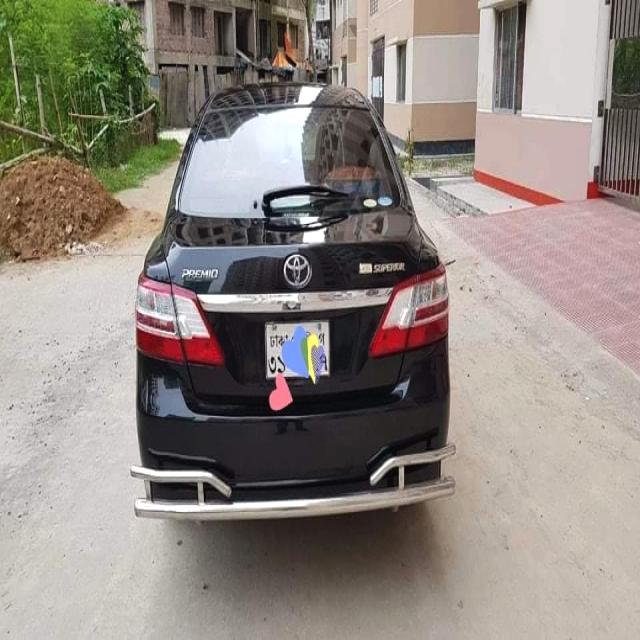black: (141, 76, 454, 524)
